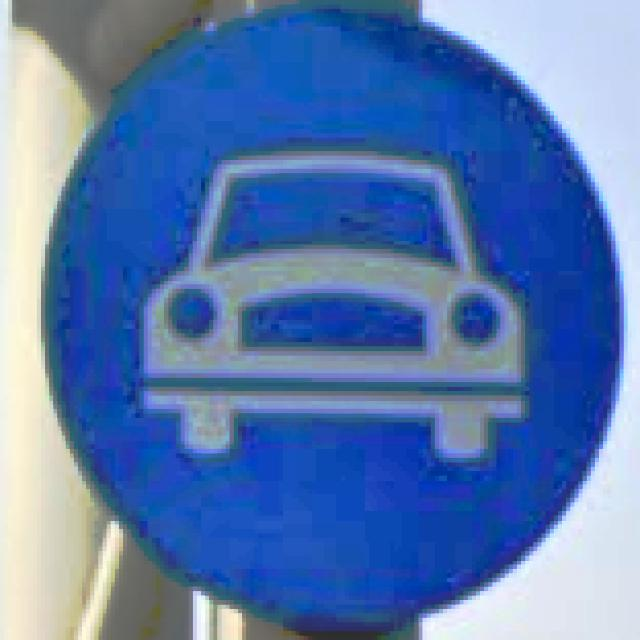car: (37, 0, 624, 627)
